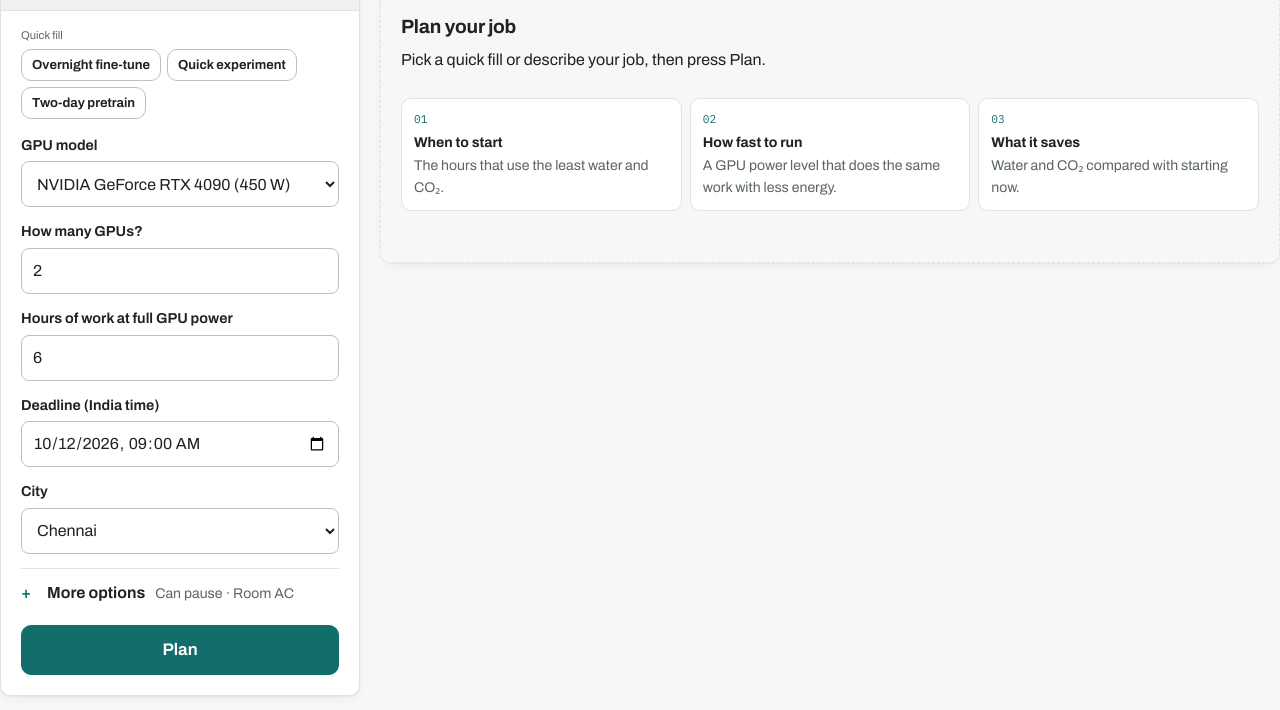
Scenario: PlanPage with a plan › posts the form once and shows the card, chart, slider and Pareto chart
(page scrolled)
Click the button "Plan" at (180, 650), box [21, 625, 339, 675]
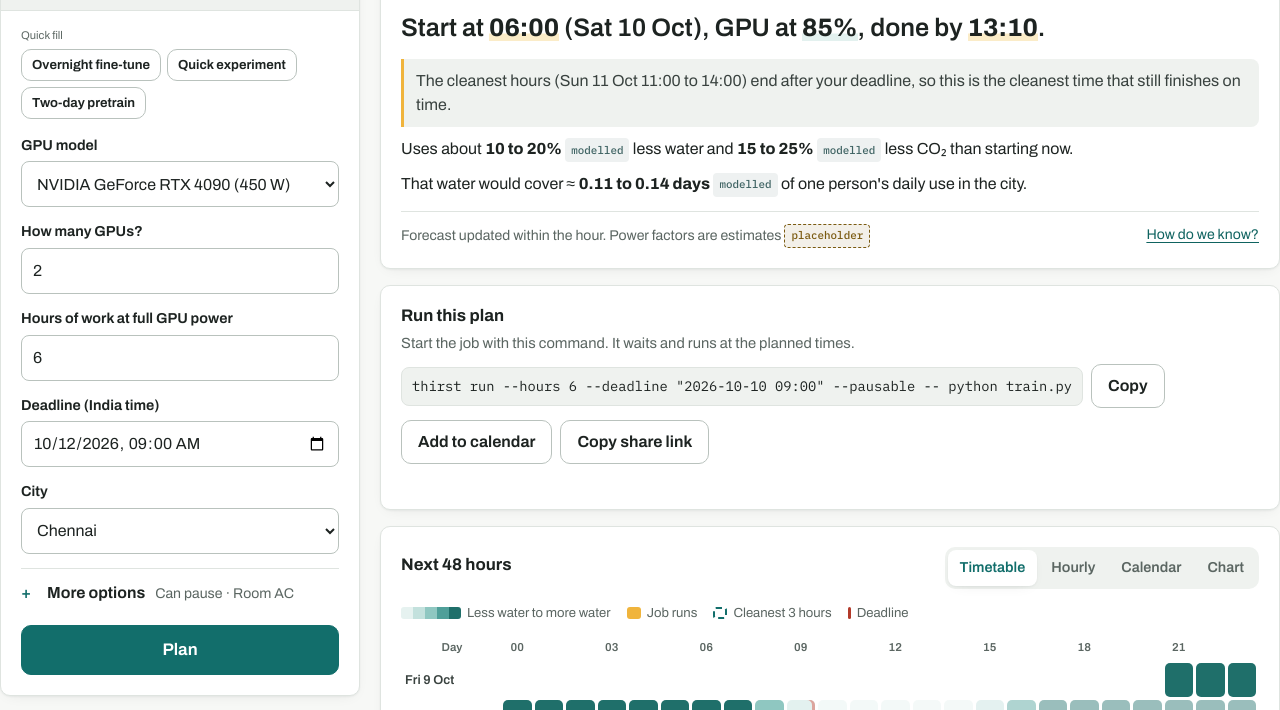
Expected: the element "Run this plan" shows "thirst run --hours", [412, 377, 1072, 395]
